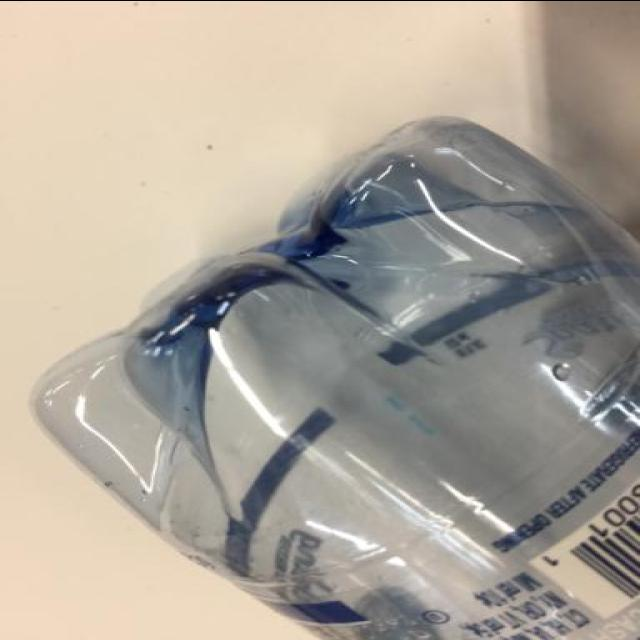litter: (26, 109, 636, 639)
